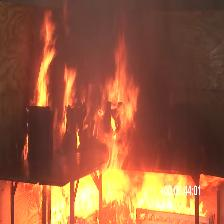fire: (18, 10, 207, 218)
